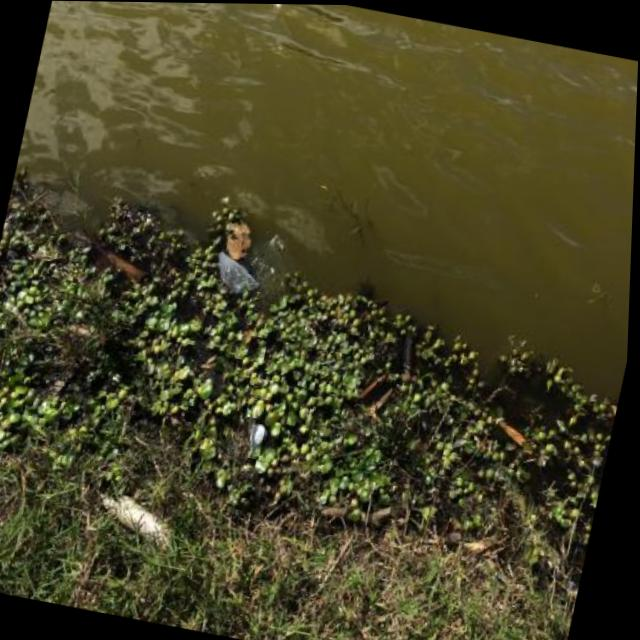other: (107, 492, 178, 552)
plastic: (212, 250, 265, 297)
